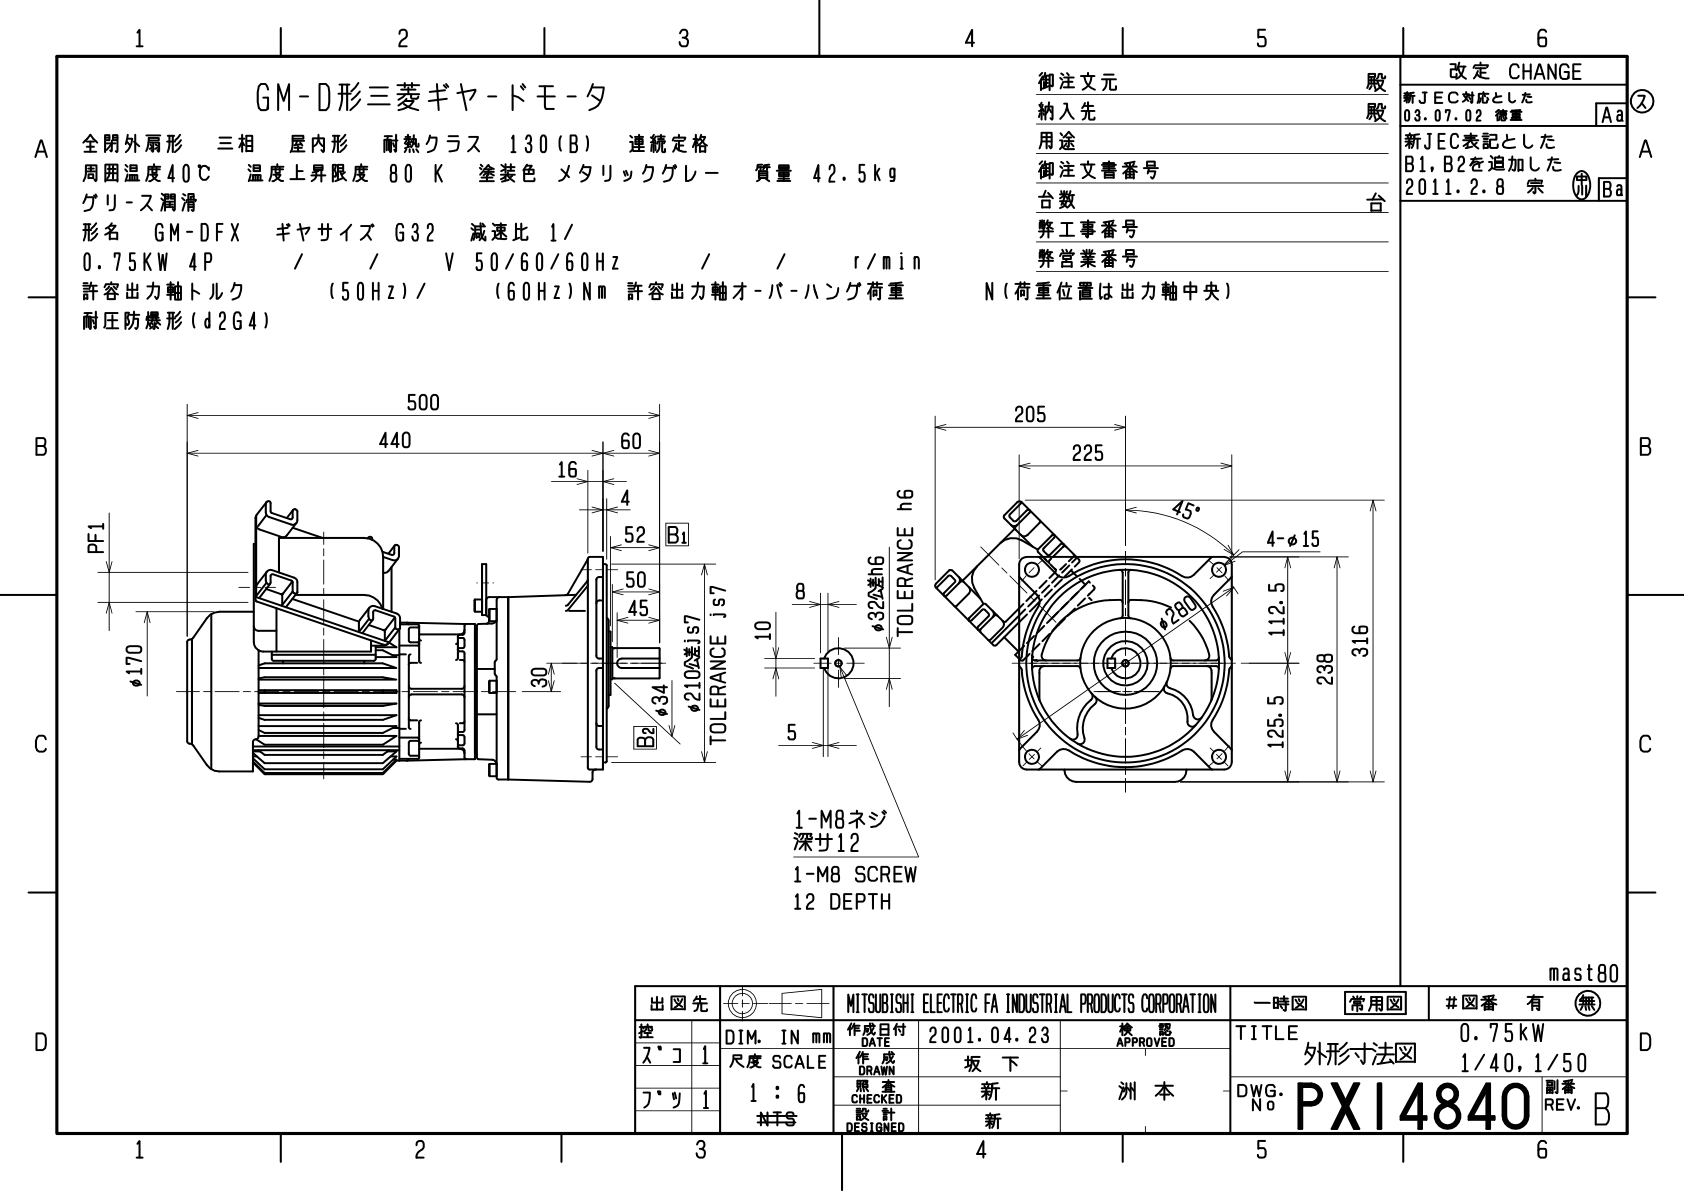GM_SP_屋内＿三相_フランジ: (48, 378, 1386, 929)
